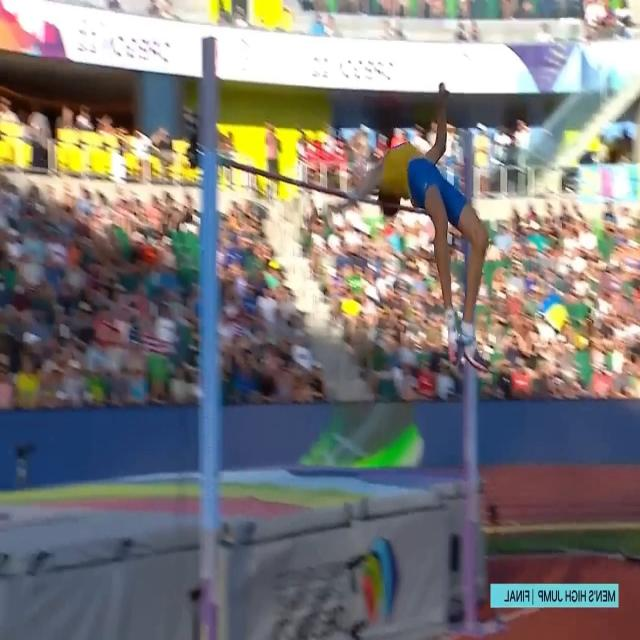jump: (327, 80, 493, 377)
